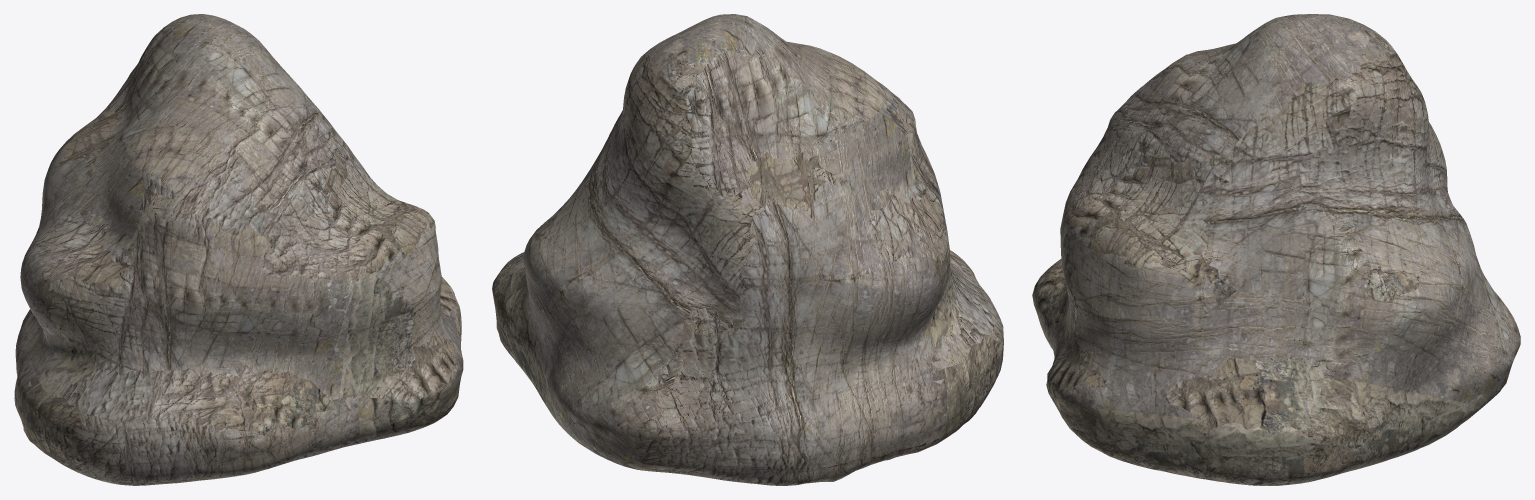
File: stone_formation_b_3.fbx
3 renders of one model, left to right at view 1: azimuth 30°, elevation 25°; view 2: azimuth 150°, elevation 25°; view 3: azimuth 270°, elevation 25°, orthographic. The views are drawn at different scales.
Visible parts, largest first — view 1: rock_formation; view 2: rock_formation; view 3: rock_formation.
Part boxes in pixels (bbox=[...]): rock_formation: bbox=[14, 14, 463, 485]; rock_formation: bbox=[492, 14, 1003, 485]; rock_formation: bbox=[1032, 14, 1520, 485].
Bounding box in the file's own units: 8640 × 7407 × 8287.
1 material, 1 textured.
